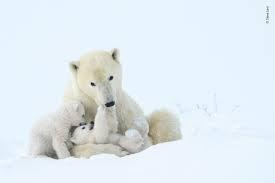bear: (65, 48, 184, 159), (25, 100, 86, 160), (70, 119, 154, 153)
